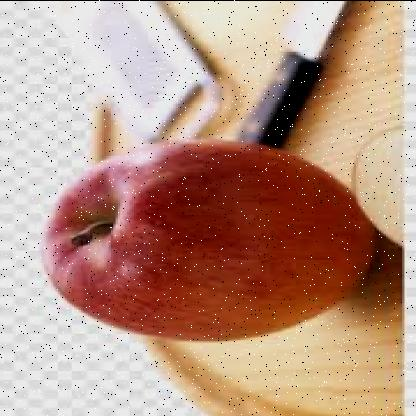apple: (48, 148, 360, 336)
